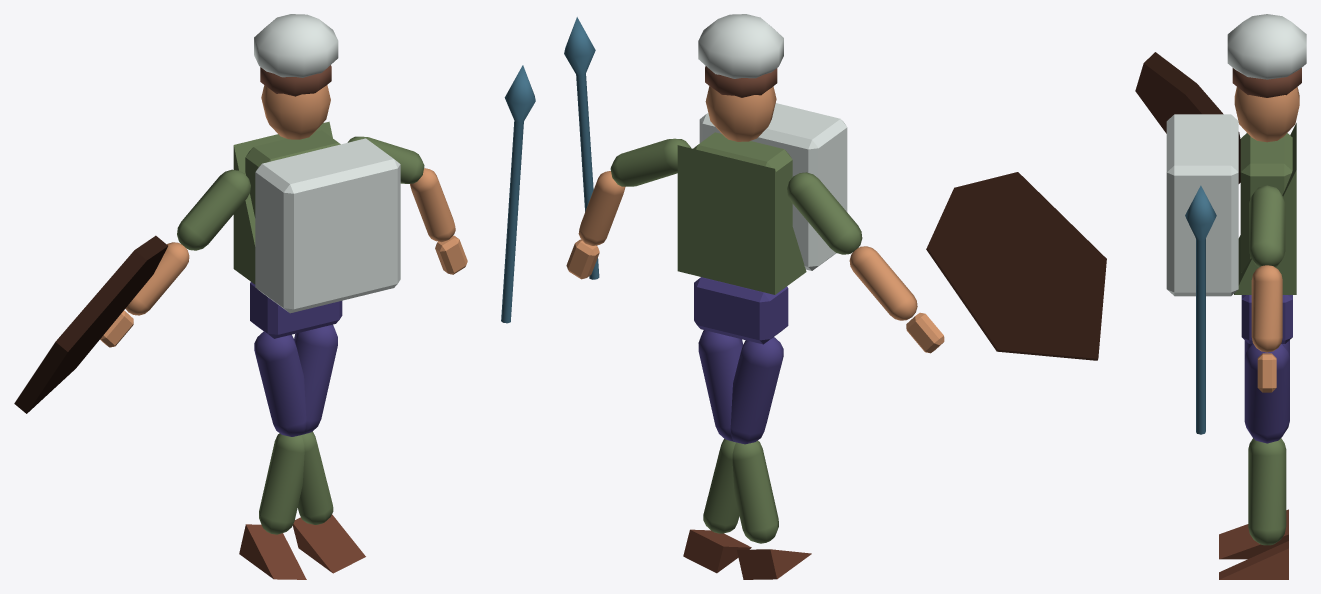
Rendered from adventurer.rustic.glb.
The picture shows the model from 3 angles, left to right: view 1: azimuth 30°, elevation 25°; view 2: azimuth 150°, elevation 25°; view 3: azimuth 270°, elevation 25°; orthographic projection.
Parts seen in each view (by area): view 1: accessory.body, accessory.off-hand, accessory.head, thigh.left, shin.right, accessory.main-hand, upper-arm.left, thigh.right, head, pelvis, tunic, foot.left (+8 smaller); view 2: accessory.off-hand, tunic, accessory.body, pelvis, accessory.head, thigh.left, shin.right, upper-arm.left, thigh.right, head, forearm.left, accessory.main-hand (+9 smaller); view 3: accessory.body, accessory.head, shin.left, accessory.off-hand, torso, thigh.right, accessory.main-hand, upper-arm.right, head, forearm.right, tunic, foot.left (+4 smaller).
Part boxes in pixels (bbox=[...]): accessory.body: bbox=[255, 138, 400, 313]; accessory.off-hand: bbox=[14, 235, 167, 413]; accessory.head: bbox=[254, 14, 338, 77]; thigh.left: bbox=[254, 331, 306, 436]; shin.right: bbox=[259, 433, 304, 534]; accessory.main-hand: bbox=[501, 65, 535, 323]; upper-arm.left: bbox=[177, 169, 250, 250]; thigh.right: bbox=[294, 324, 337, 434]; head: bbox=[261, 85, 330, 139]; pelvis: bbox=[250, 282, 342, 338]; tunic: bbox=[233, 121, 332, 284]; foot.left: bbox=[292, 514, 365, 573]; accessory.off-hand: bbox=[926, 172, 1106, 360]; tunic: bbox=[677, 145, 806, 294]; accessory.body: bbox=[699, 103, 847, 270]; pelvis: bbox=[694, 277, 788, 344]; accessory.head: bbox=[698, 14, 783, 78]; thigh.left: bbox=[730, 337, 783, 444]; shin.right: bbox=[732, 440, 778, 543]; upper-arm.left: bbox=[787, 172, 862, 254]; thigh.right: bbox=[698, 330, 743, 441]; head: bbox=[705, 86, 776, 141]; forearm.left: bbox=[849, 246, 917, 320]; accessory.main-hand: bbox=[564, 17, 599, 279]; accessory.body: bbox=[1166, 114, 1238, 296]; accessory.head: bbox=[1227, 14, 1306, 79]; shin.left: bbox=[1248, 439, 1286, 545]; accessory.off-hand: bbox=[1135, 52, 1240, 183]; torso: bbox=[1240, 133, 1292, 272]; thigh.right: bbox=[1244, 344, 1289, 443]; accessory.main-hand: bbox=[1185, 185, 1216, 434]; upper-arm.right: bbox=[1249, 185, 1285, 267]; head: bbox=[1234, 87, 1299, 142]; forearm.right: bbox=[1251, 265, 1282, 352]; tunic: bbox=[1234, 123, 1296, 294]; foot.left: bbox=[1219, 541, 1288, 579].
Size of the model in its own units: 3.22 by 3.18 by 0.9041.
